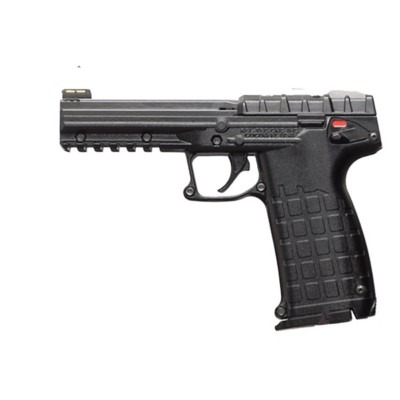gun: (55, 83, 386, 333)
